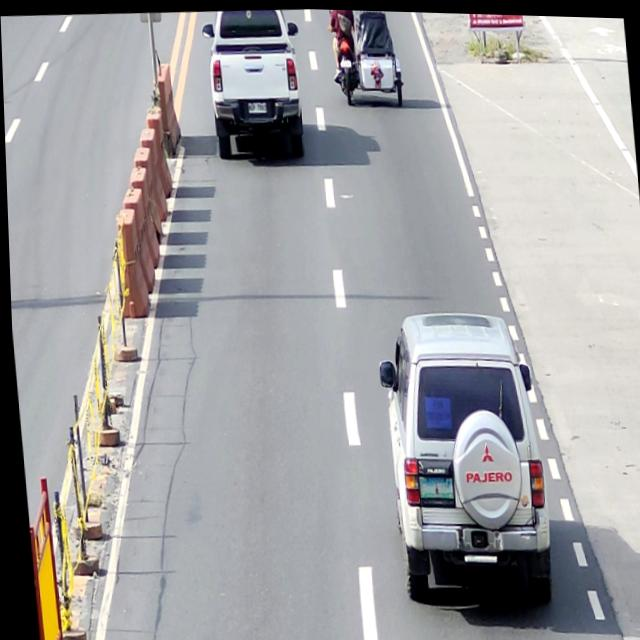Car: (371, 303, 552, 607), (200, 5, 308, 161)
License-Plate: (415, 468, 453, 505), (244, 96, 269, 118)
Tricycle: (331, 8, 405, 107)
